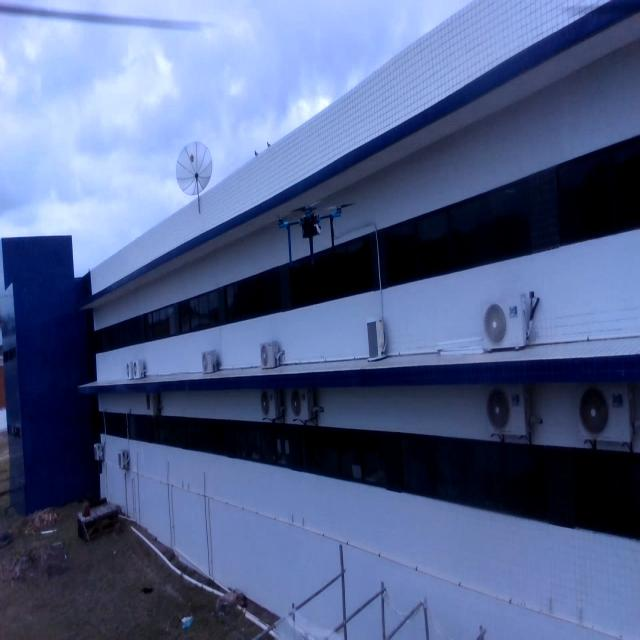-uav-: (268, 187, 362, 277)
